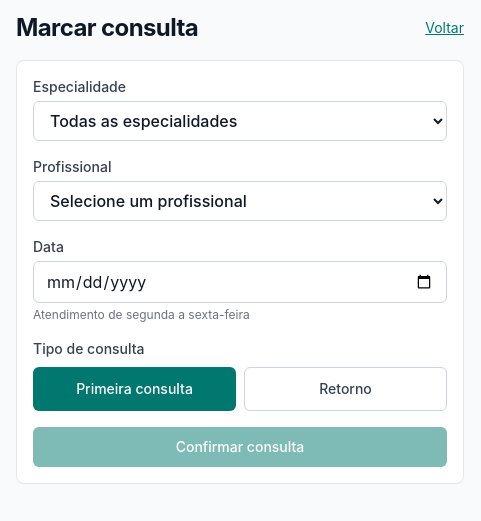
it: AgendarConsulta › bloqueia e exibe erro ao selecionar sábado ou domingo (RN01)
Note: Selecionar profissional
Select "Dr. Roberto (Cardiologia)" in the dropdown labelled "Profissional": (240, 201) [33,181,447,221]
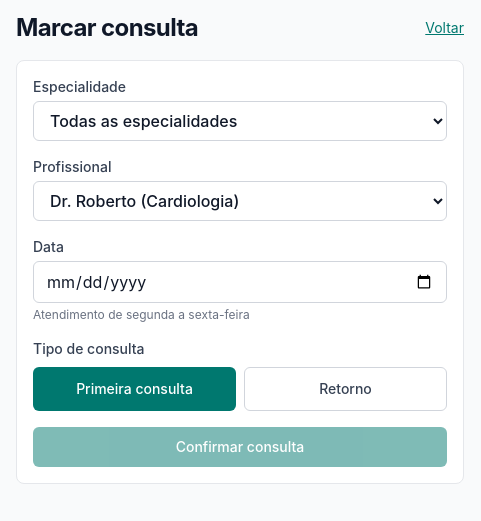
Note: Selecionar domingo (2026-10-25)
In the date field labelled "Data": (240, 282) [33,261,447,303], type "2026-10-25"
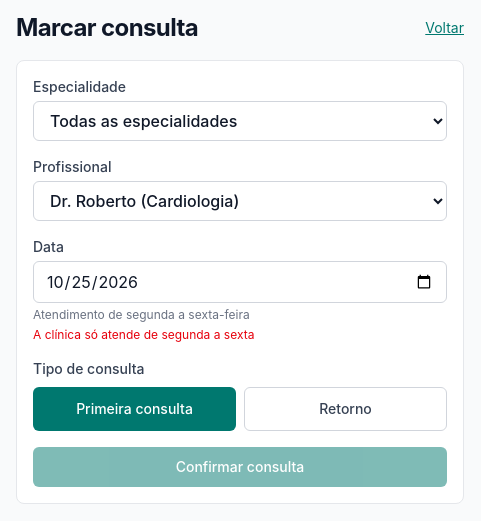
Expected: the button "Confirmar consulta" is disabled, [33,447,447,487]
Result: the text "A clínica só atende de segunda a sexta" is shown at [33,327,254,342]
